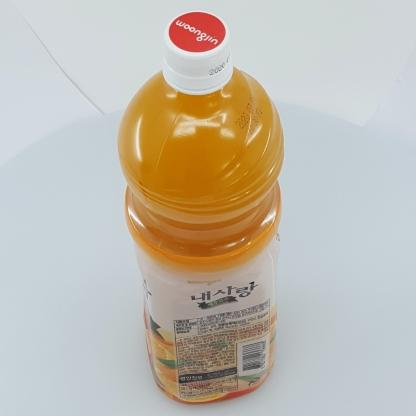----------1-5L: (117, 10, 284, 405)
